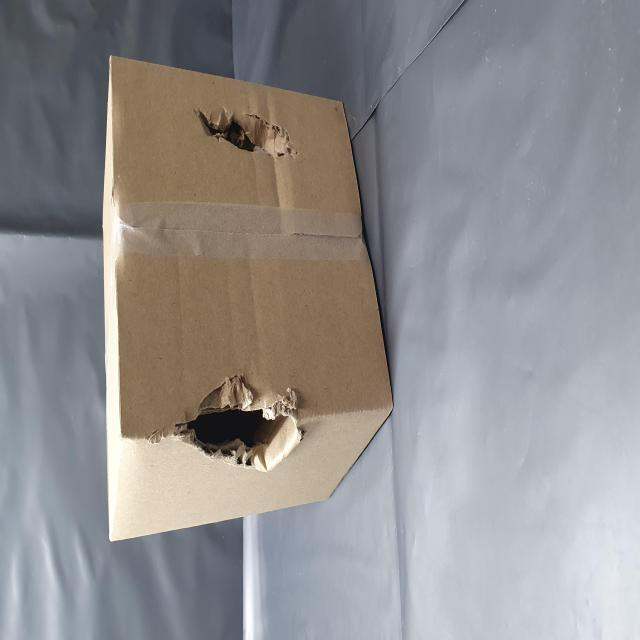damaged: (98, 315, 154, 540), (270, 344, 300, 534)
